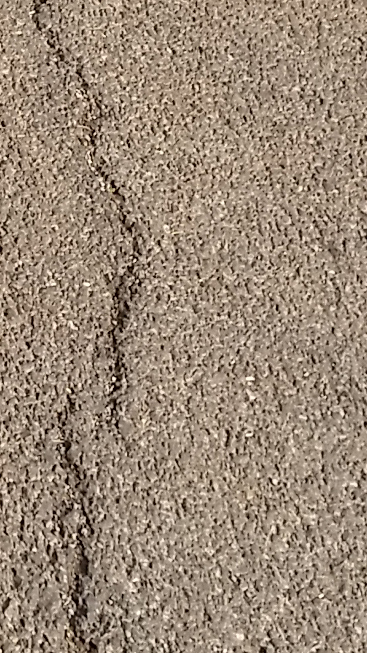A: (20, 1, 150, 645)
